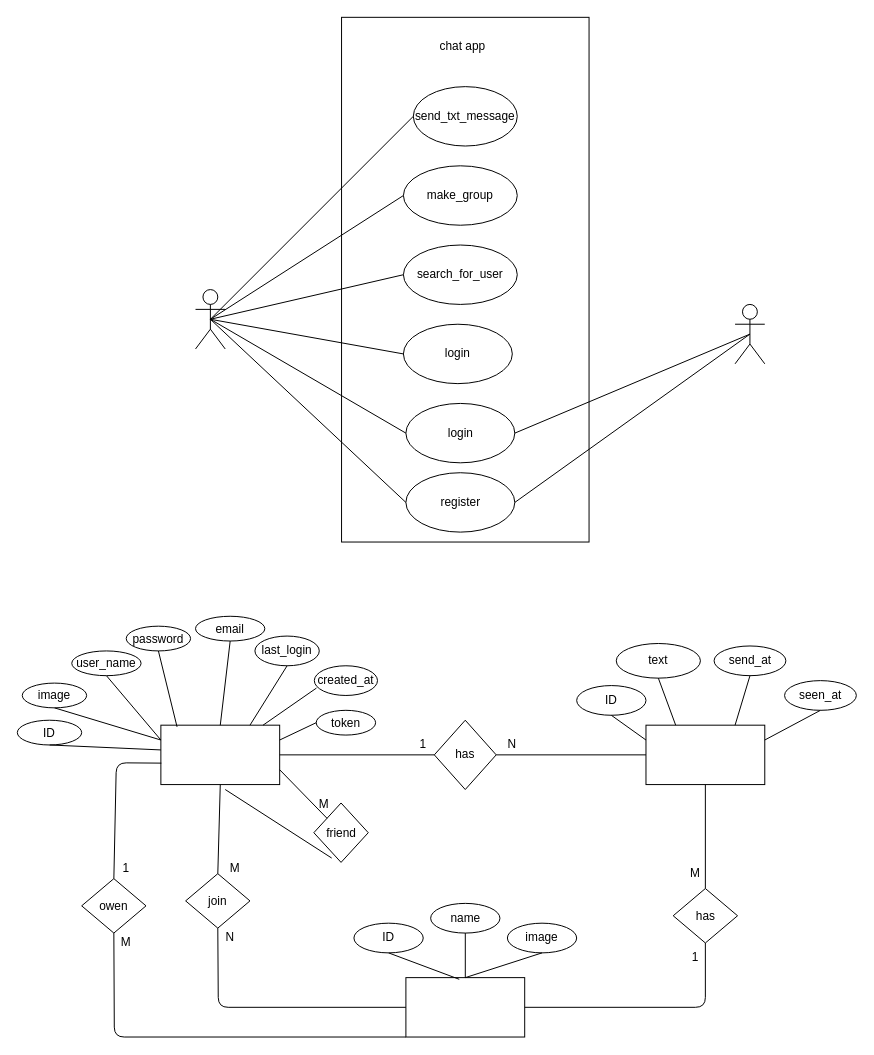
Some shapes in this 874 by 1055 pixel diagram are drawn without their labels. Each missing label, with the centre of its shape:
authenticative system: pixel 749 333
MESSAGES: pixel 705 754
ROOMS: pixel 465 1007
user: pixel 210 319
USERS: pixel 220 754
